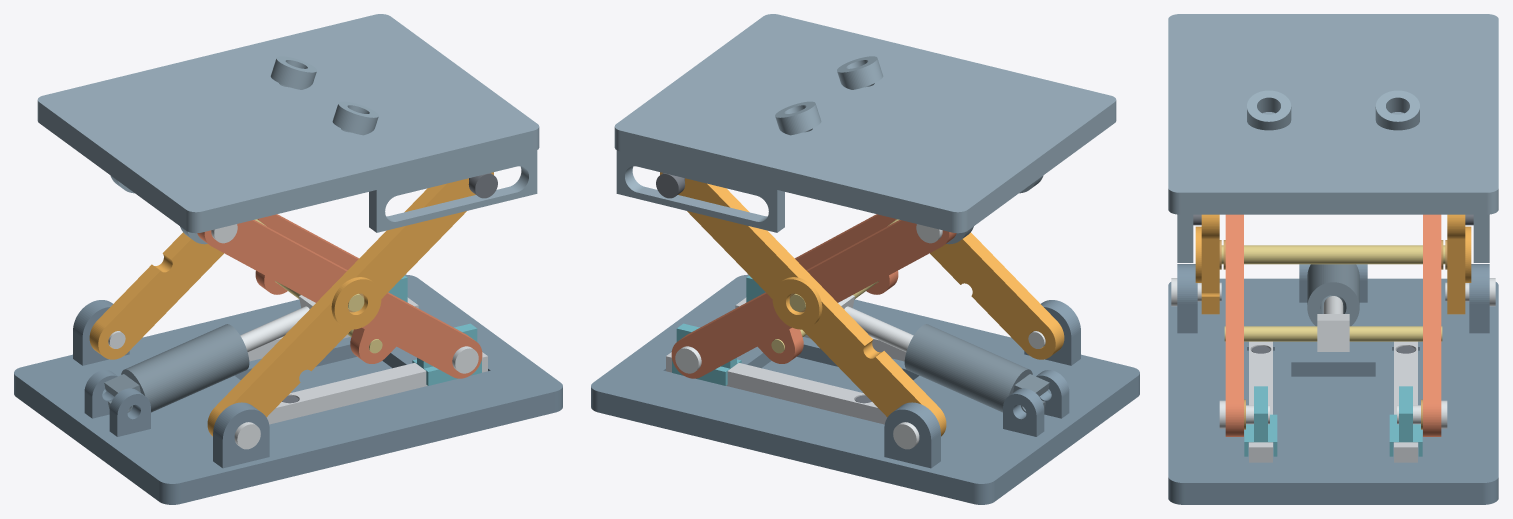
The model's file is t5_scissor_lift_32p_kimi.glb.
The picture shows the model from 3 angles, left to right: view 1: azimuth 30°, elevation 25°; view 2: azimuth 150°, elevation 25°; view 3: azimuth 270°, elevation 25°; orthographic projection. The views are drawn at different scales.
Visible parts, largest first — view 1: part_05_table, part_01_base, part_02_outer_neg, part_03_inner_neg, part_02_outer_pos, part_07_cylinder, part_06_rail_neg, part_03_inner_pos, part_08_rod_clevis, part_04_slider_neg; view 2: part_05_table, part_01_base, part_02_outer_pos, part_03_inner_pos, part_02_outer_neg, part_07_cylinder, part_06_rail_pos, part_03_inner_neg, part_08_rod_clevis, part_04_slider_pos; view 3: part_05_table, part_01_base, part_03_inner_neg, part_03_inner_pos, part_09_centre_axle, part_07_cylinder, part_10_drive_cross_pin, part_02_outer_neg, part_02_outer_pos, part_06_rail_neg, part_06_rail_pos, part_08_rod_clevis (+4 smaller).
Boxes of the visible parts, <box> form: part_05_table: <box>37,14,539,244</box>; part_01_base: <box>14,274,562,504</box>; part_02_outer_neg: <box>207,172,493,436</box>; part_03_inner_neg: <box>197,220,482,378</box>; part_02_outer_pos: <box>89,232,223,359</box>; part_07_cylinder: <box>104,324,249,412</box>; part_06_rail_neg: <box>266,352,487,424</box>; part_03_inner_pos: <box>255,214,358,294</box>; part_08_rod_clevis: <box>240,295,315,351</box>; part_04_slider_neg: <box>412,323,481,385</box>; part_05_table: <box>614,14,1116,244</box>; part_01_base: <box>591,274,1139,504</box>; part_02_outer_pos: <box>660,172,946,436</box>; part_03_inner_pos: <box>671,220,956,378</box>; part_02_outer_neg: <box>930,232,1064,359</box>; part_07_cylinder: <box>904,324,1049,412</box>; part_06_rail_pos: <box>666,352,887,424</box>; part_03_inner_neg: <box>795,214,898,294</box>; part_08_rod_clevis: <box>838,295,913,351</box>; part_04_slider_pos: <box>672,323,741,385</box>; part_05_table: <box>1168,14,1498,262</box>; part_01_base: <box>1168,264,1498,504</box>; part_03_inner_neg: <box>1225,214,1243,436</box>; part_03_inner_pos: <box>1423,214,1441,436</box>; part_09_centre_axle: <box>1221,245,1445,264</box>; part_07_cylinder: <box>1307,264,1359,326</box>; part_10_drive_cross_pin: <box>1224,326,1442,341</box>; part_02_outer_neg: <box>1195,214,1219,314</box>; part_02_outer_pos: <box>1447,214,1471,314</box>; part_06_rail_neg: <box>1249,341,1272,462</box>; part_06_rail_pos: <box>1394,341,1417,462</box>; part_08_rod_clevis: <box>1317,296,1349,351</box>.
Bounding box in the file's own units: 0.24 × 0.1772 × 0.164.
